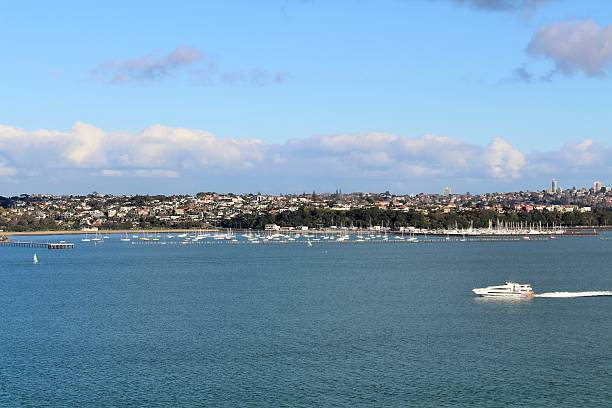ferry: (472, 280, 534, 299)
